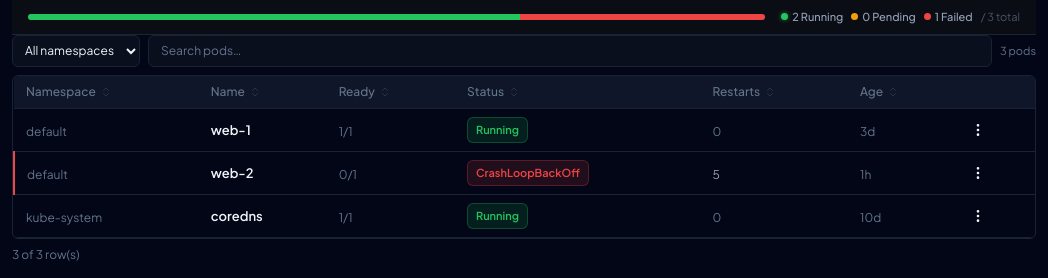
Test: PodTable › filters by namespace via the dropdown
Select "kube-system" in the dropdown at (76, 51), box [12,35,140,67]
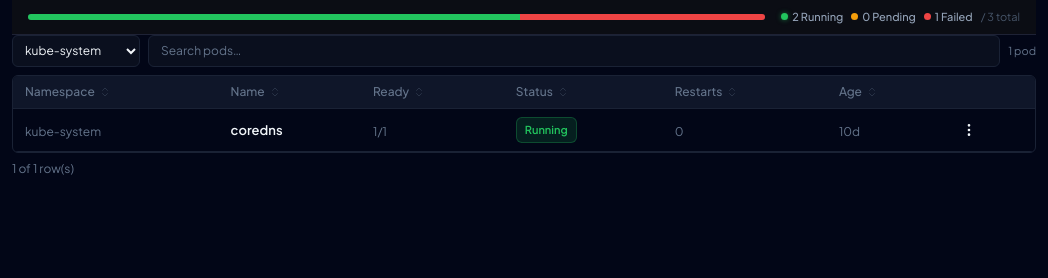
Check: the text "coredns" is shown, box [230,122,282,138]
Check: the button "web-1" is gone
